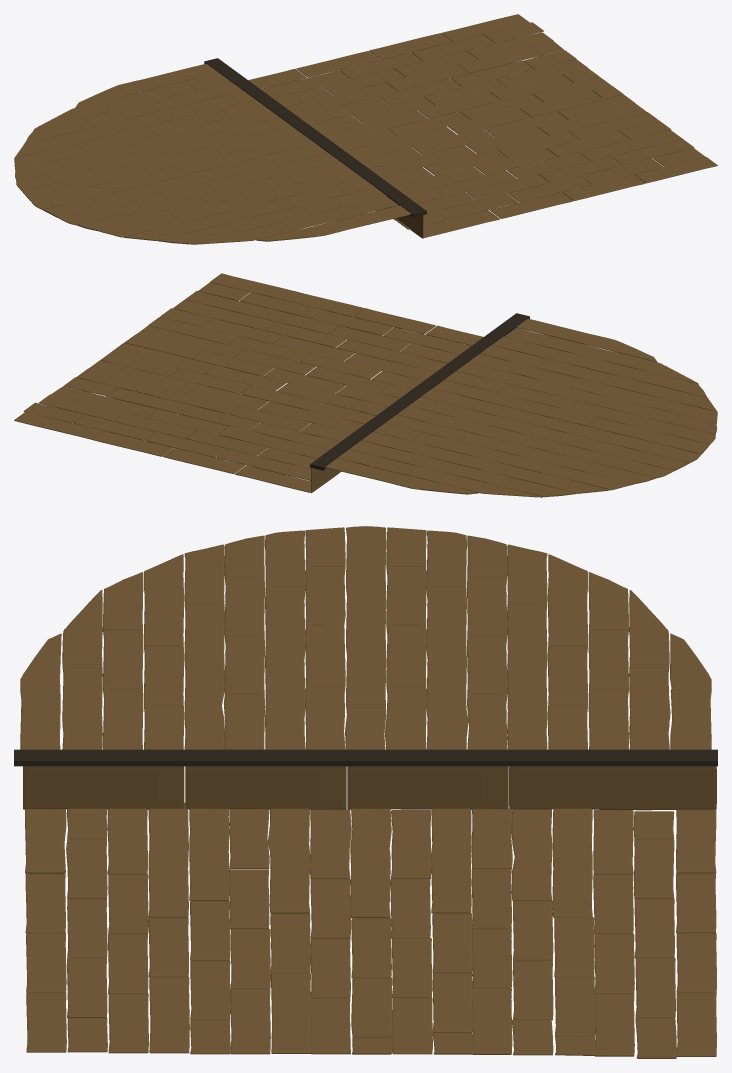
File: suelo.fbx
The picture shows the model from 3 angles, top to bottom: view 1: azimuth 30°, elevation 25°; view 2: azimuth 150°, elevation 25°; view 3: azimuth 270°, elevation 25°; orthographic projection. The views are drawn at different scales.
Visible parts, largest first — view 1: Suelo_Barco.005; view 2: Suelo_Barco.005; view 3: Suelo_Barco.005.
Boxes of the visible parts, x1=… form: Suelo_Barco.005: x1=14, y1=14, x2=717, y2=244; Suelo_Barco.005: x1=14, y1=273, x2=717, y2=497; Suelo_Barco.005: x1=14, y1=526, x2=717, y2=1058.
Size of the model in its own units: 15.99 by 0.77 by 9.82.
